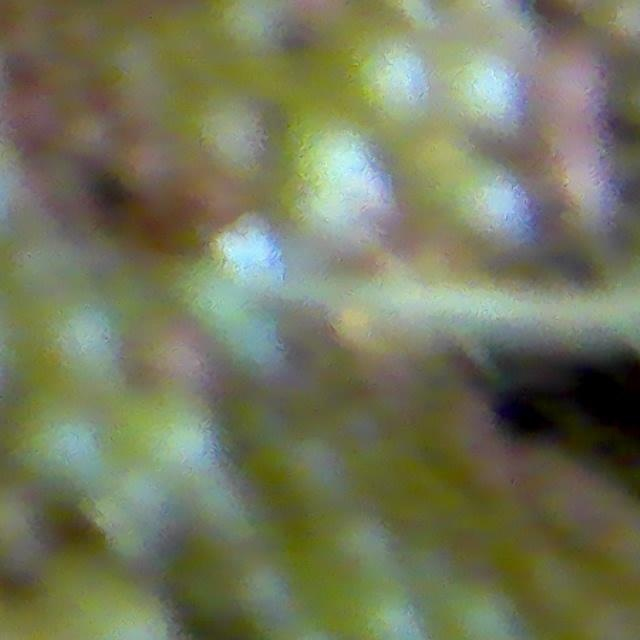SeaGrape: (2, 379, 126, 501), (109, 374, 229, 494), (28, 280, 132, 392), (86, 460, 187, 568), (343, 42, 436, 131), (438, 157, 529, 244), (442, 48, 525, 130), (279, 428, 359, 508), (529, 37, 599, 125), (438, 574, 528, 640), (321, 508, 395, 576)
